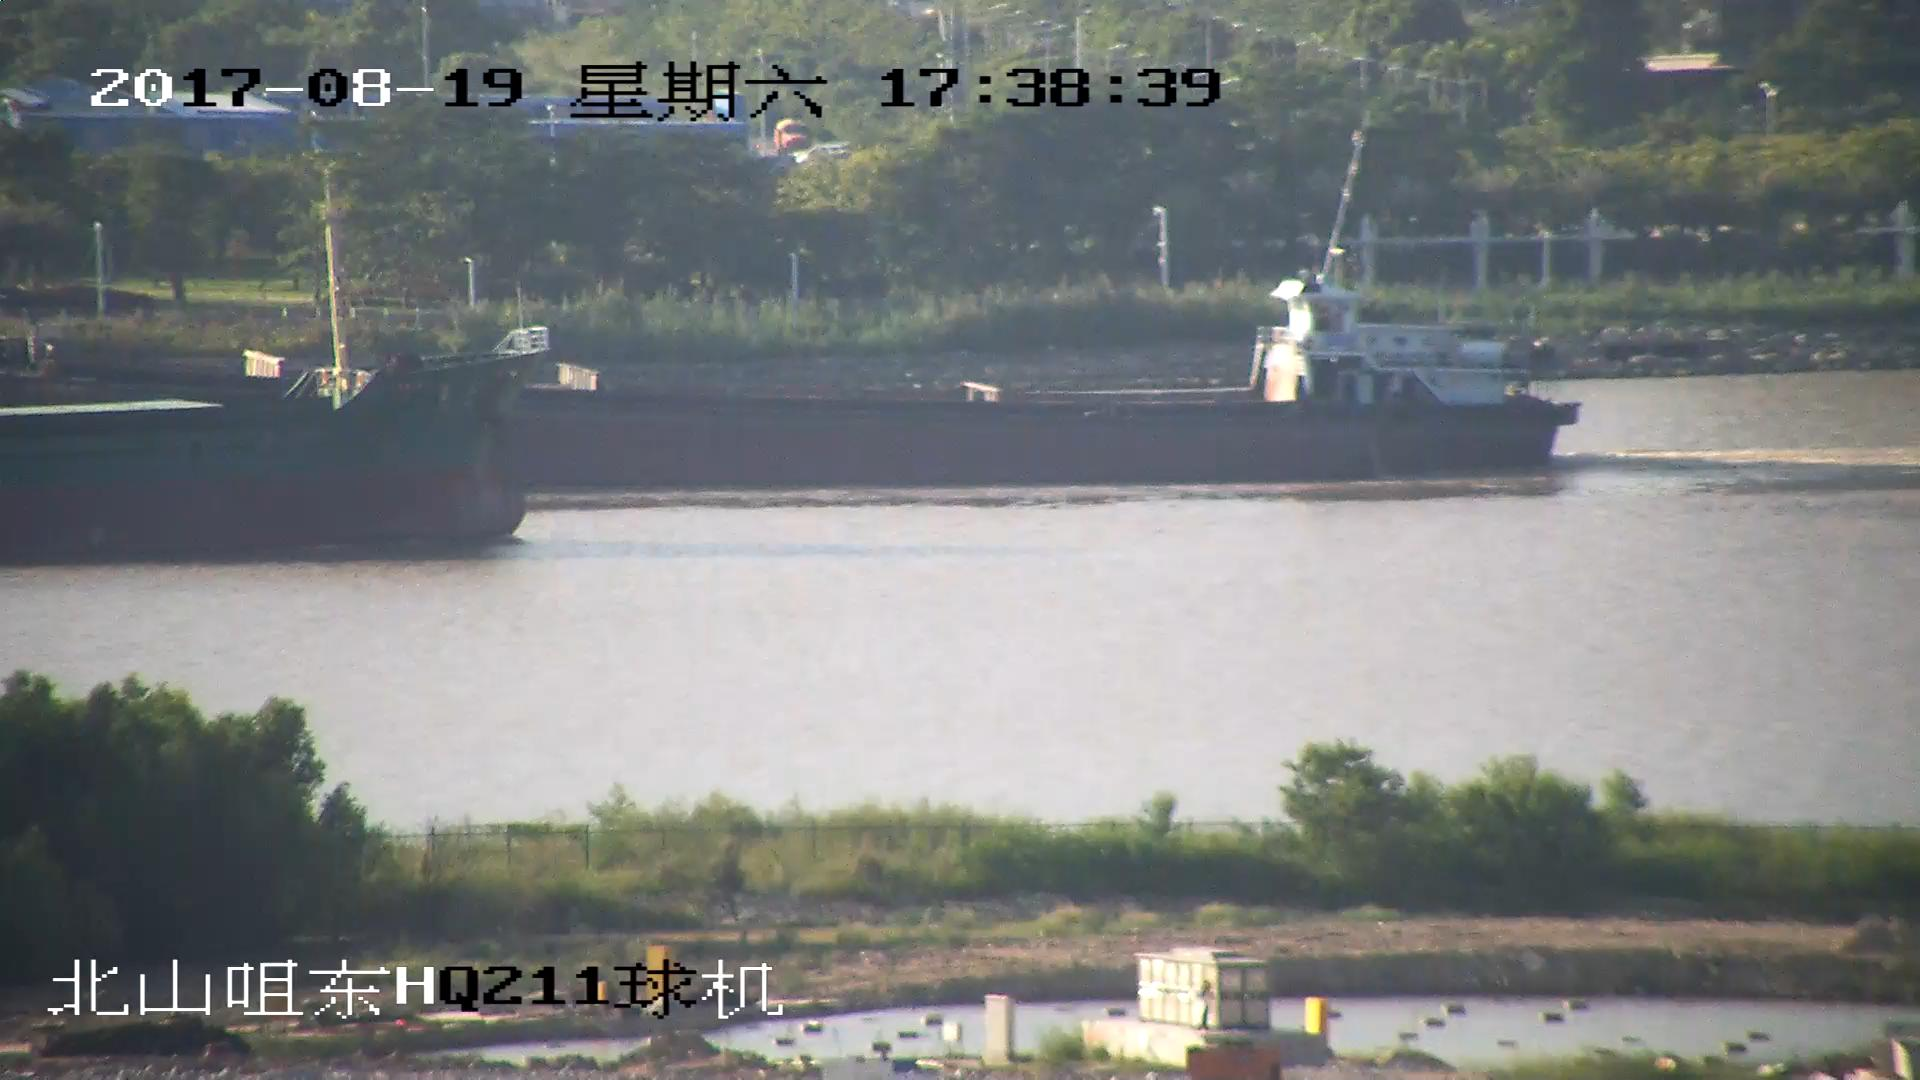general cargo ship: (368, 269, 1566, 477), (1, 328, 540, 552)
